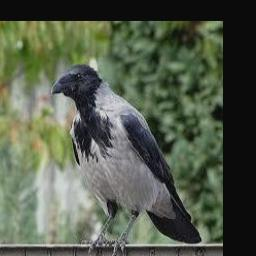Crow: (52, 64, 202, 256)
